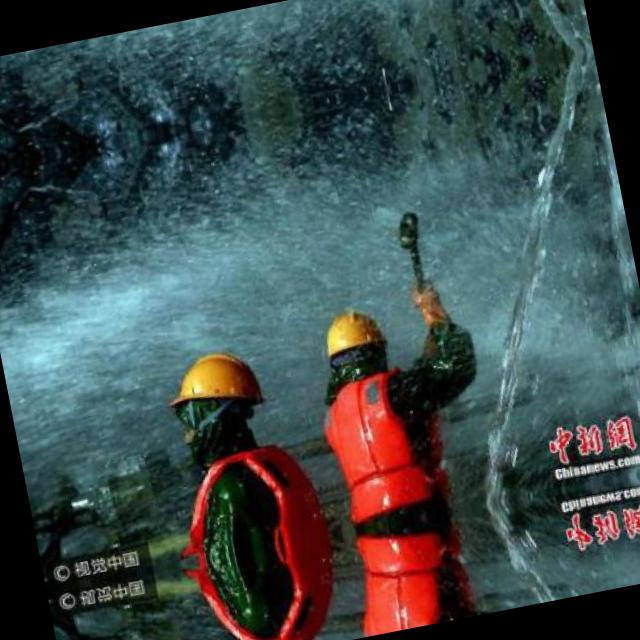helmet: (157, 334, 280, 458), (308, 298, 399, 404)
